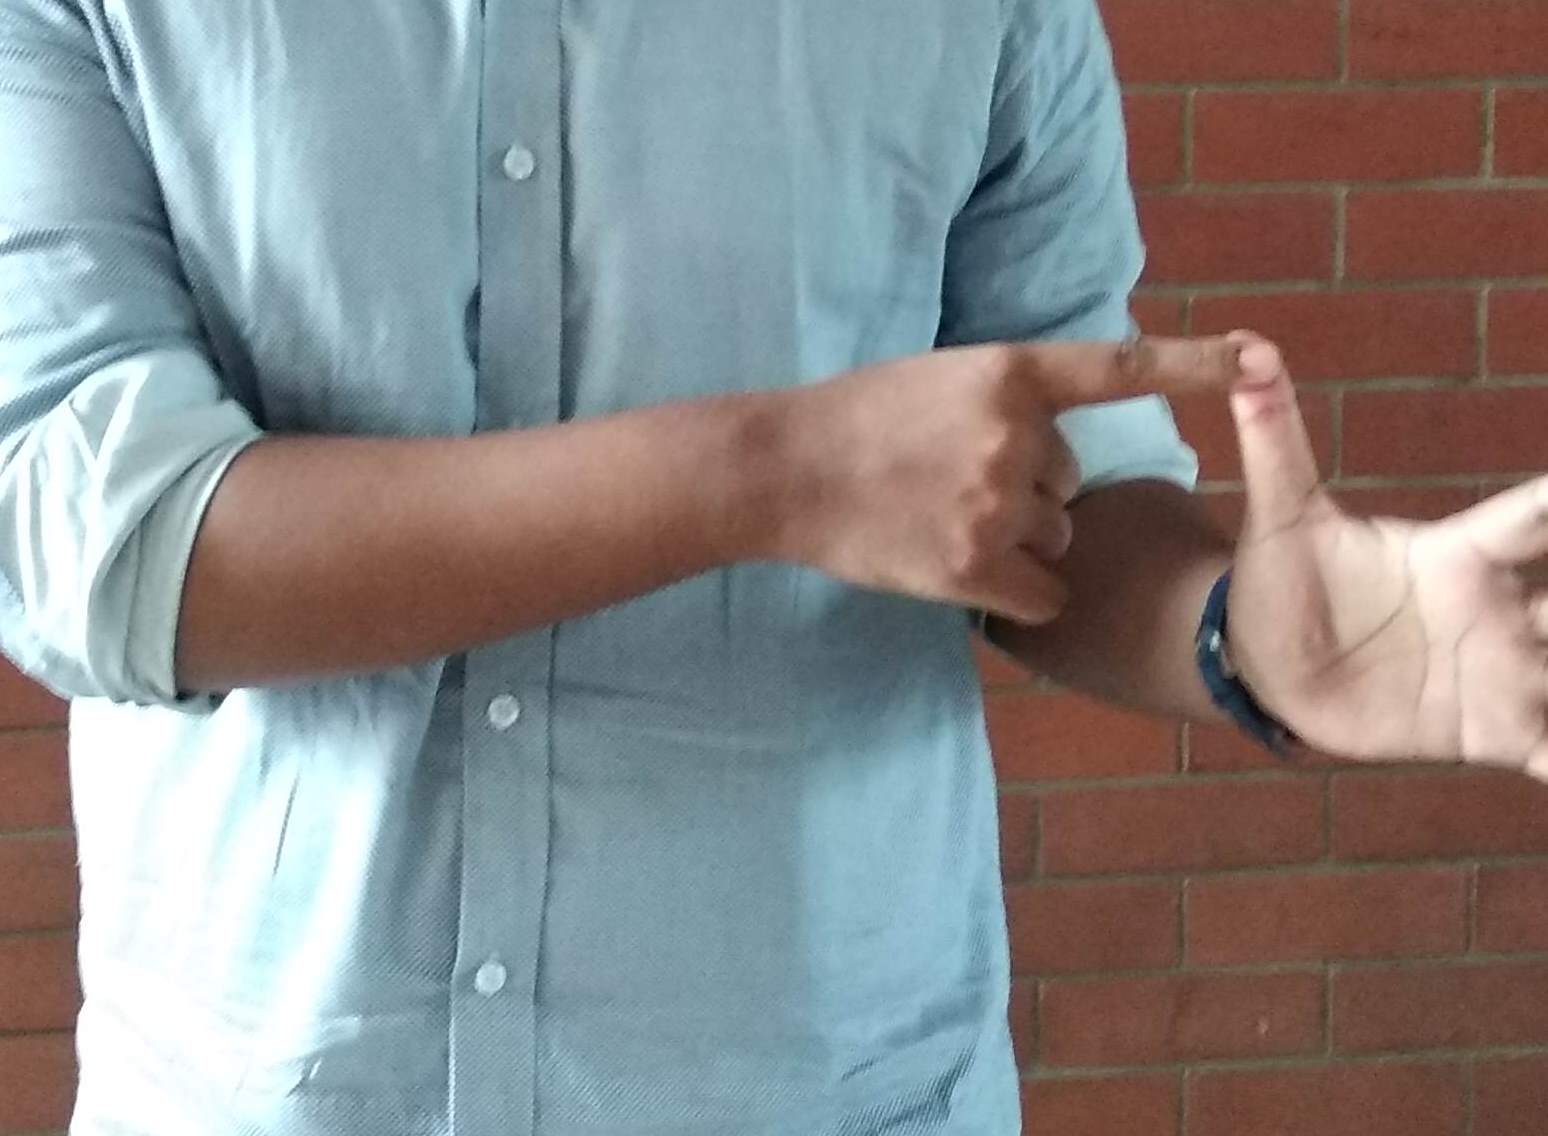a: (798, 299, 1548, 845)
